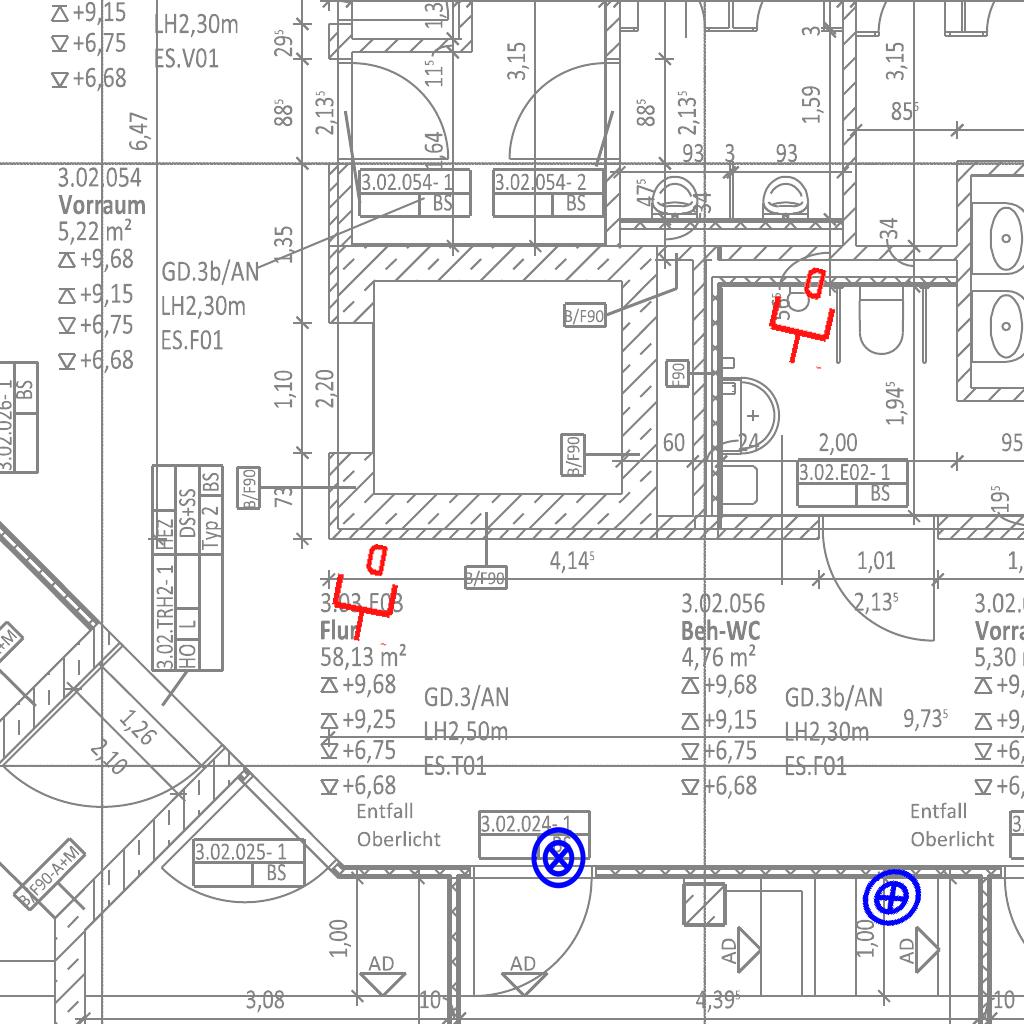Datenanschluss_einfach: (757, 259, 848, 373), (322, 537, 409, 649)
Taster_beleuchtet: (845, 851, 939, 945), (526, 825, 592, 891)
